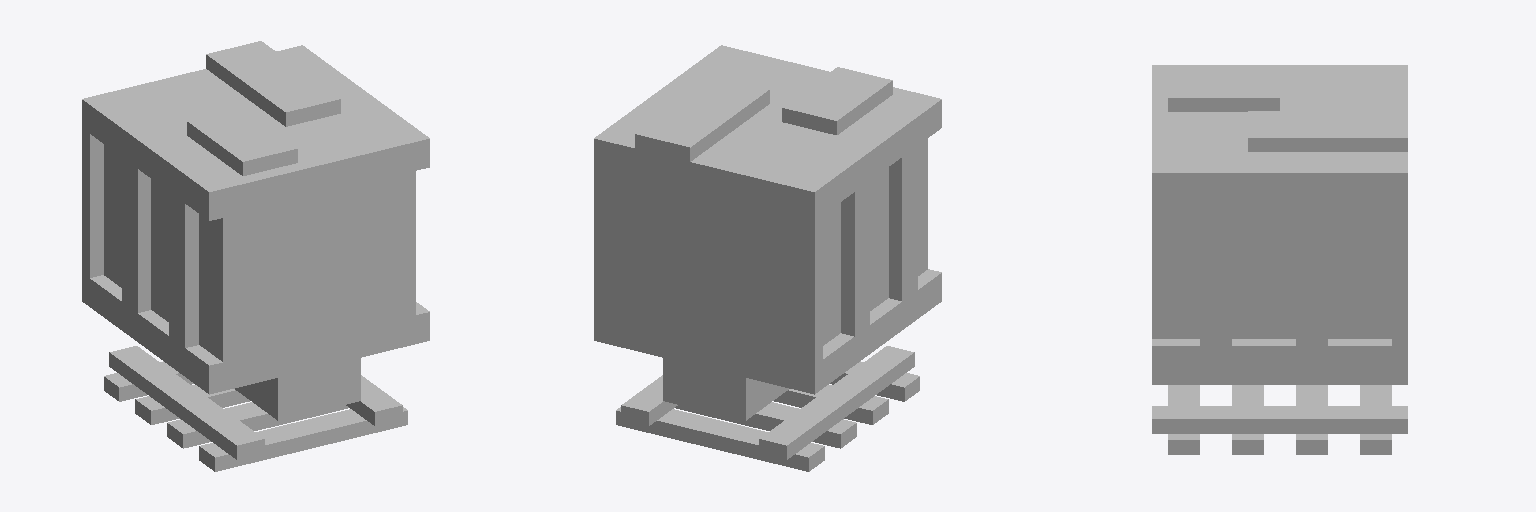
The model's file is sm_mapnodes_wagon2.obj.
3 views of the same model, side by side, from view 1: azimuth 30°, elevation 25°; view 2: azimuth 150°, elevation 25°; view 3: azimuth 270°, elevation 25° (orthographic).
Parts seen in each view (by area): view 1: Wagon2; view 2: Wagon2; view 3: Wagon2.
Boxes of the visible parts, x1,y1,x2,y2 form: Wagon2: [82, 41, 429, 471]; Wagon2: [594, 45, 941, 471]; Wagon2: [1152, 65, 1407, 454].
Size of the model in its own units: 1 by 1.31 by 1.